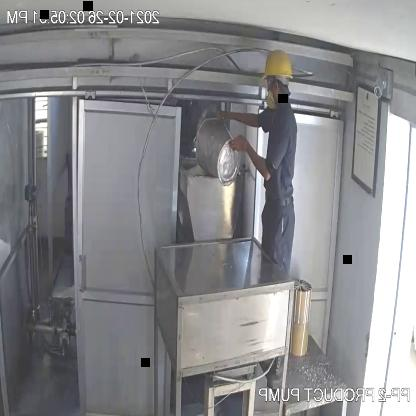helmet: (255, 43, 297, 88)
